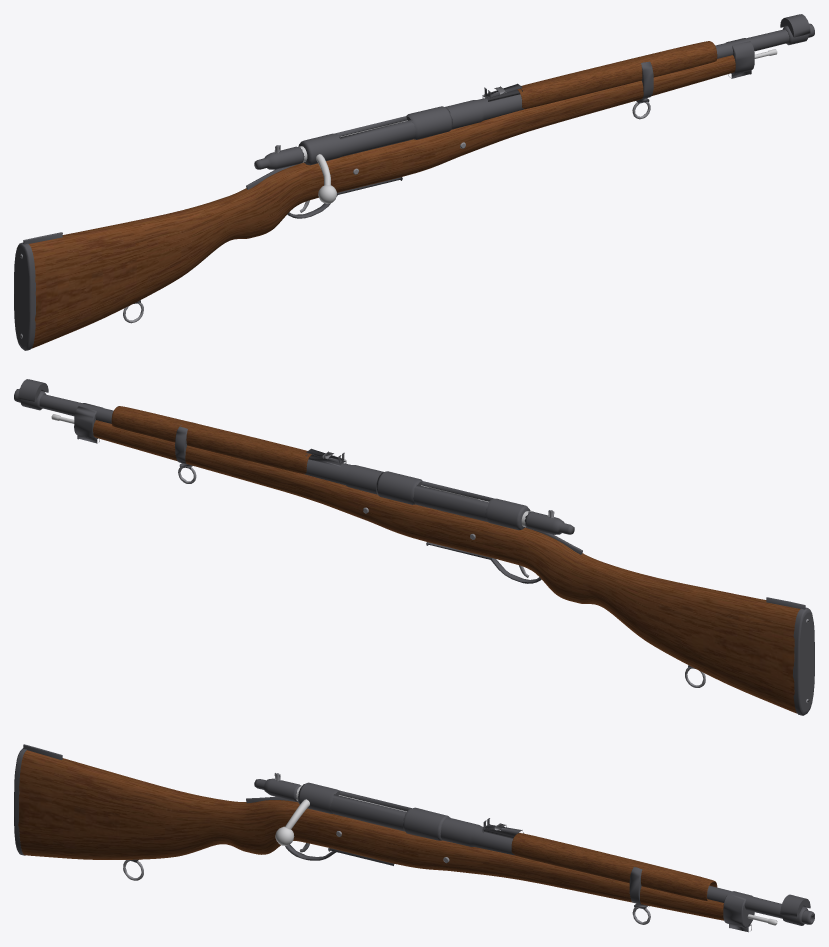
The model's file is rifle.glb.
3 views of the same model, one above another, from view 1: azimuth 30°, elevation 25°; view 2: azimuth 150°, elevation 25°; view 3: azimuth 330°, elevation 25° (orthographic).
Visible parts, largest first — view 1: rifle_wood, rifle_steel, rifle_bright; view 2: rifle_wood, rifle_steel; view 3: rifle_wood, rifle_steel, rifle_bright, rifle_steel_worn.
Part boxes in pixels (x1,y1,x2,y2): rifle_wood: [29, 41, 735, 348]; rifle_steel: [14, 14, 814, 350]; rifle_bright: [299, 49, 777, 203]; rifle_wood: [93, 406, 800, 713]; rifle_steel: [14, 379, 814, 715]; rifle_wood: [18, 750, 723, 920]; rifle_steel: [14, 744, 814, 932]; rifle_bright: [275, 785, 777, 925]; rifle_steel_worn: [123, 773, 650, 924].
Bounding box in the file's own units: 1.11 × 0.1966 × 0.0849.
Materials: 5 (1 with a texture image).
